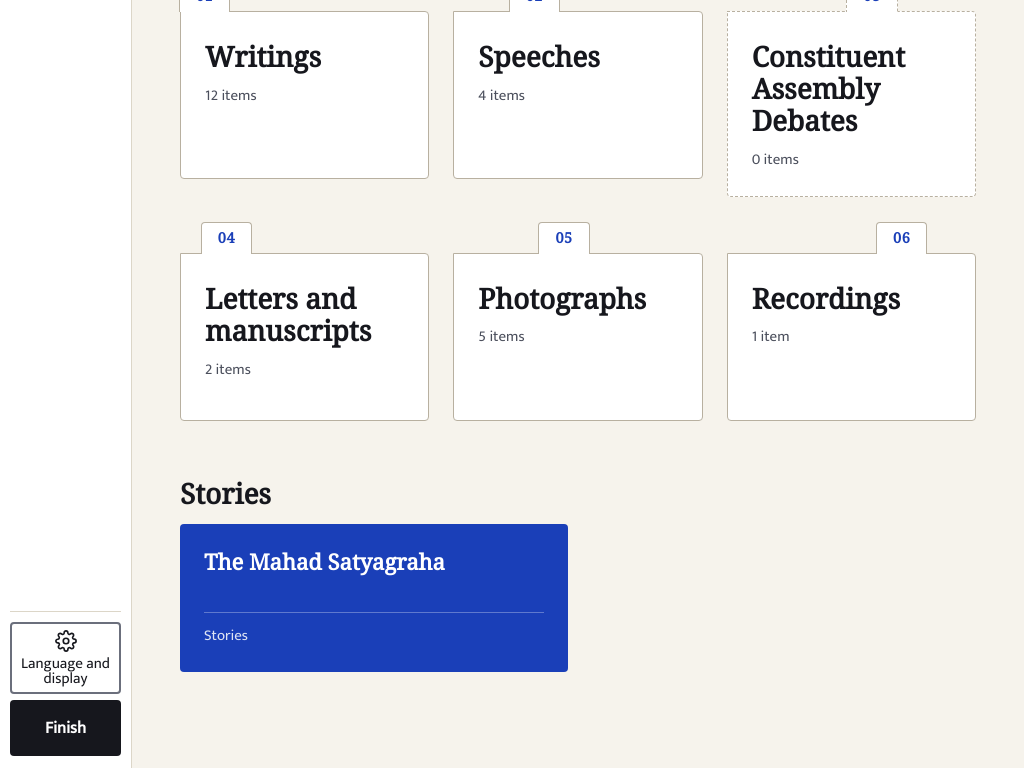
Finish › says the visit has ended, even when the visitor was already on the home page
(page scrolled)
Click the button with class "finish" at x=66, y=728, box [10,700,121,756]
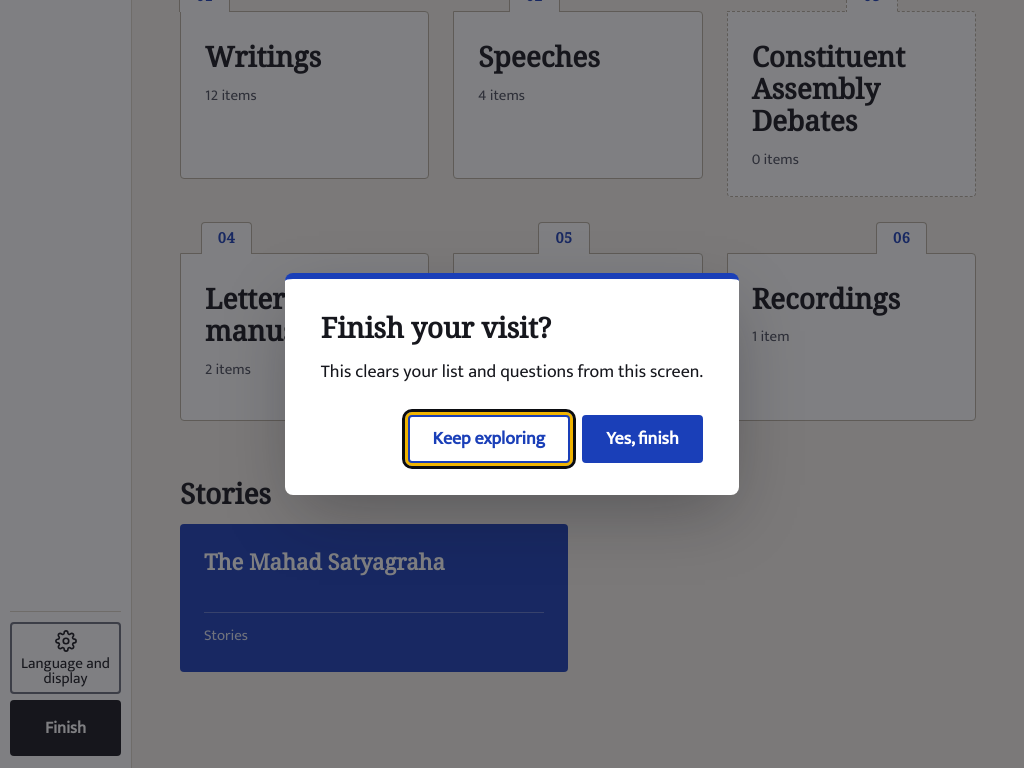
Click the button "Yes, finish" at x=642, y=439, box [582,415,703,463]
(page scrolled)
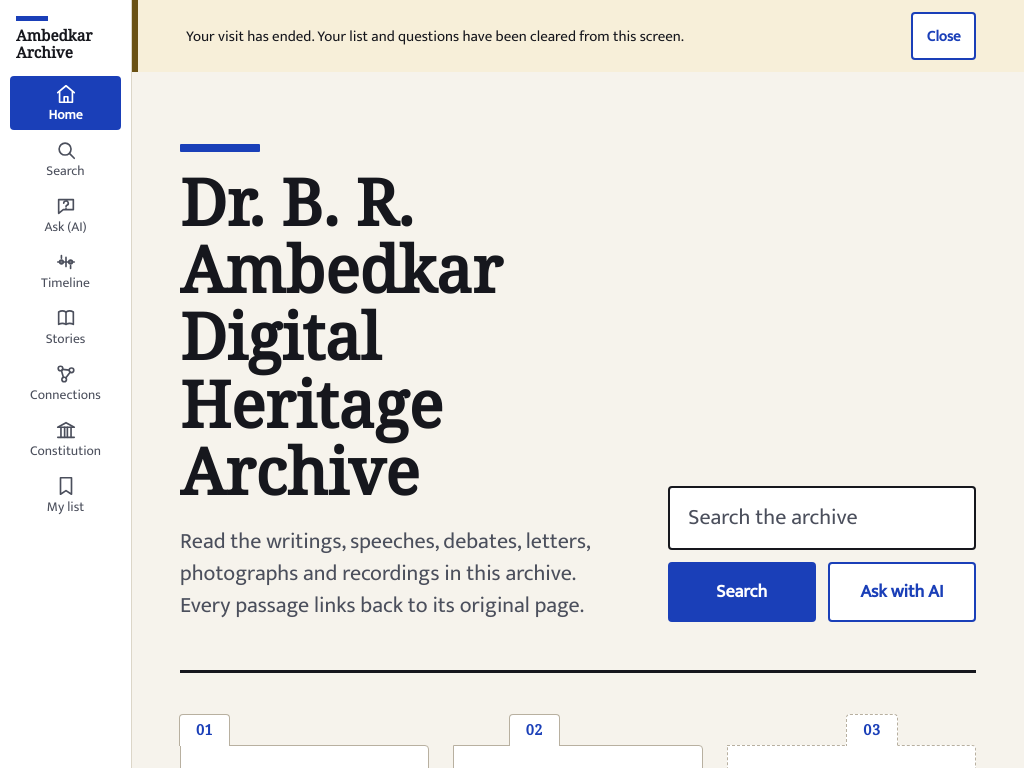
expect the message shows "Your visit has ended. Your list and questions have been cleared from this screen.": met, box [186,24,684,48]
Click the button "Close" at x=944, y=36, box [911,12,976,60]
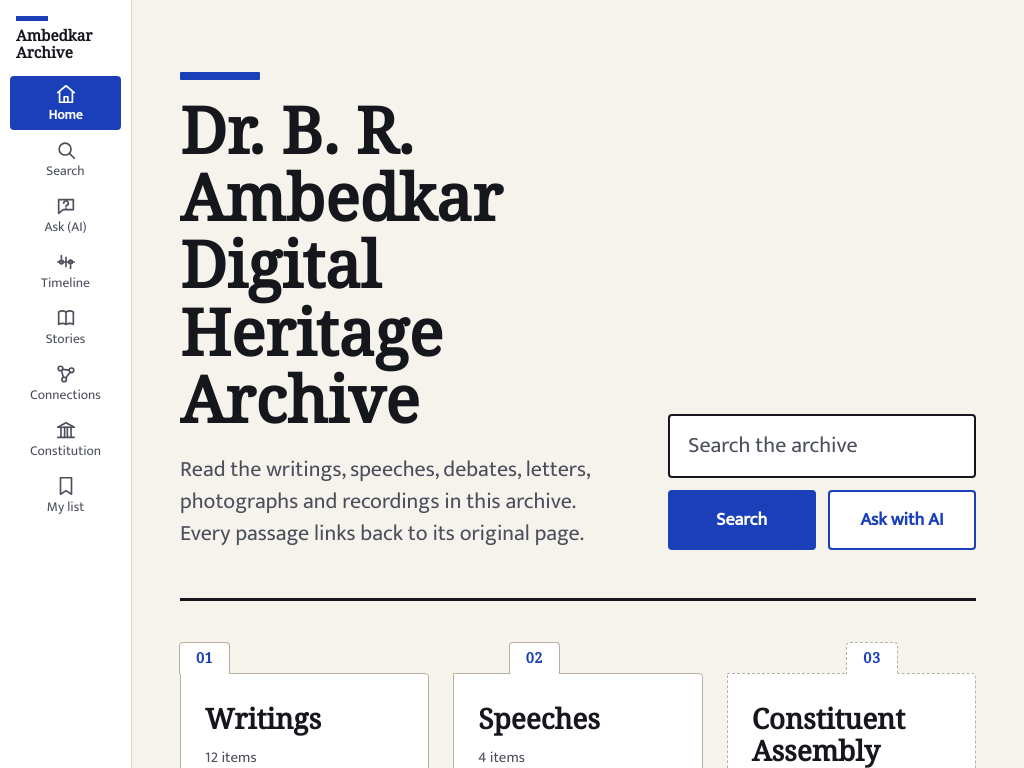
expect the message is gone: met
